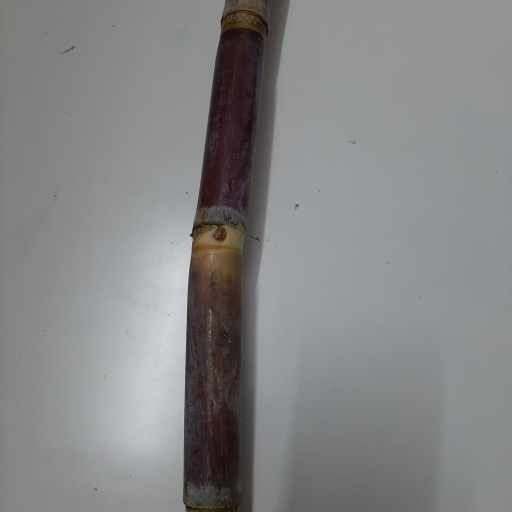Bud: (211, 225, 225, 240)
